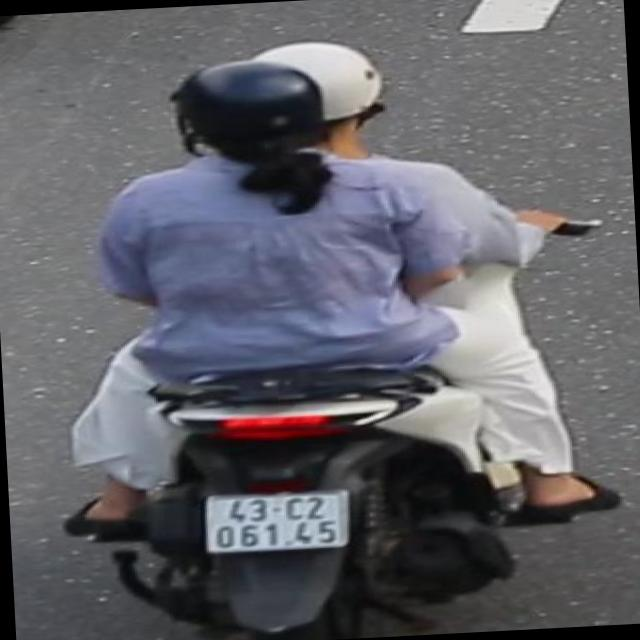LP: (200, 486, 358, 562)
helmet: (162, 52, 330, 166)
